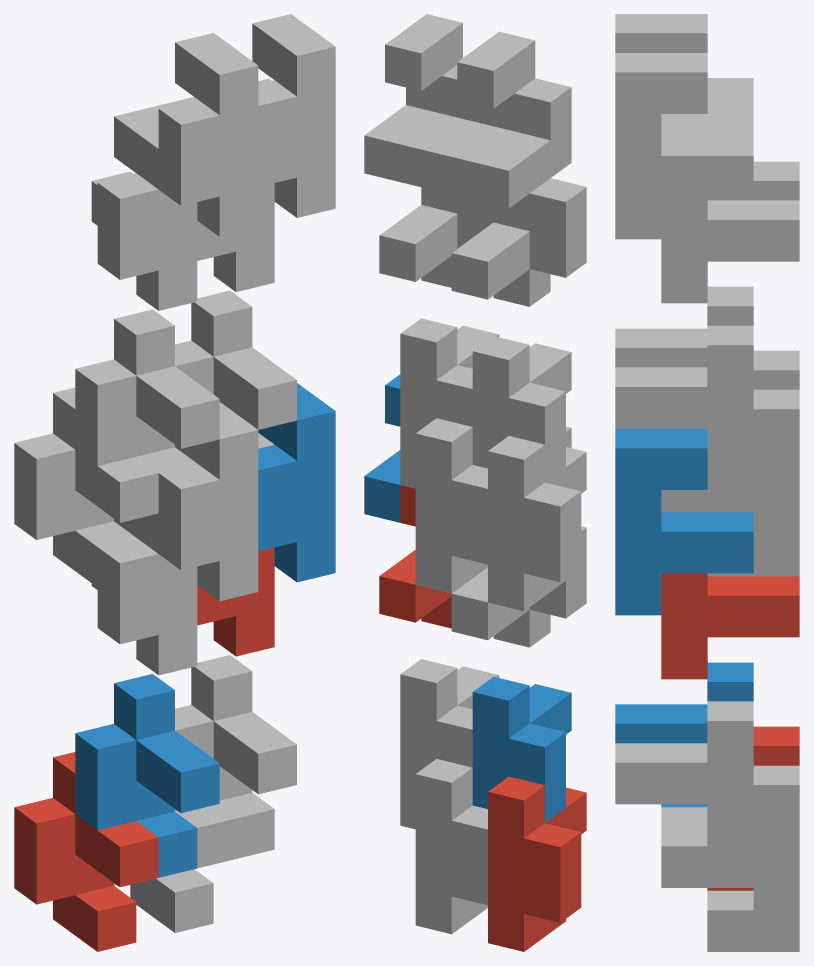
Rendered from tiling.obj.
3 renders of one model, left to right at view 1: azimuth 30°, elevation 25°; view 2: azimuth 150°, elevation 25°; view 3: azimuth 270°, elevation 25°, orthographic. The views are drawn at different scales.
Parts seen in each view (by area): view 1: copy_1_domain_2, copy_2_domain_4, copy_1_domain_1, copy_1_domain_4, copy_1_domain_3, copy_2_domain_2, copy_2_domain_8, copy_2_domain_3, copy_1_domain_6, copy_2_domain_6, copy_2_domain_1, copy_1_domain_8 (+3 smaller); view 2: copy_2_domain_3, copy_1_domain_1, copy_1_domain_3, copy_2_domain_4, copy_1_domain_7, copy_1_domain_5, copy_1_domain_2, copy_1_domain_4, copy_2_domain_7, copy_2_domain_8, copy_1_domain_6, copy_1_domain_8 (+3 smaller); view 3: copy_2_domain_6, copy_1_domain_6, copy_2_domain_8, copy_1_domain_8, copy_2_domain_7, copy_1_domain_5, copy_2_domain_5, copy_1_domain_7, copy_1_domain_2, copy_1_domain_4, copy_2_domain_4, copy_2_domain_3 (+2 smaller).
Boxes of the visible parts, <box> form: copy_1_domain_2: <box>75,674,219,877</box>; copy_2_domain_4: <box>153,33,258,236</box>; copy_1_domain_1: <box>14,752,158,951</box>; copy_1_domain_4: <box>75,309,219,472</box>; copy_1_domain_3: <box>14,387,158,587</box>; copy_2_domain_2: <box>158,402,258,601</box>; copy_2_domain_8: <box>252,14,335,217</box>; copy_2_domain_3: <box>91,107,197,310</box>; copy_1_domain_6: <box>175,655,296,858</box>; copy_2_domain_6: <box>258,383,335,582</box>; copy_2_domain_1: <box>91,513,197,675</box>; copy_1_domain_8: <box>175,290,296,448</box>; copy_2_domain_3: <box>451,131,586,306</box>; copy_1_domain_1: <box>488,776,586,951</box>; copy_1_domain_3: <box>488,436,586,611</box>; copy_2_domain_4: <box>436,31,571,199</box>; copy_1_domain_7: <box>415,418,487,593</box>; copy_1_domain_5: <box>415,759,487,934</box>; copy_1_domain_2: <box>472,676,571,822</box>; copy_1_domain_4: <box>472,336,571,481</box>; copy_2_domain_7: <box>379,114,493,287</box>; copy_2_domain_8: <box>364,14,478,181</box>; copy_1_domain_6: <box>400,659,499,829</box>; copy_1_domain_8: <box>400,318,499,488</box>; copy_2_domain_6: <box>615,428,753,615</box>; copy_1_domain_6: <box>615,701,753,887</box>; copy_2_domain_8: <box>615,53,753,239</box>; copy_1_domain_8: <box>615,325,753,512</box>; copy_2_domain_7: <box>661,117,799,303</box>; copy_1_domain_5: <box>661,765,799,951</box>; copy_2_domain_5: <box>661,573,799,679</box>; copy_1_domain_7: <box>707,389,799,576</box>; copy_1_domain_2: <box>615,662,753,807</box>; copy_1_domain_4: <box>615,286,753,367</box>; copy_2_domain_4: <box>615,14,753,116</box>; copy_2_domain_3: <box>707,78,799,200</box>.
Bounding box in the file's own units: 6 × 22 × 4.
